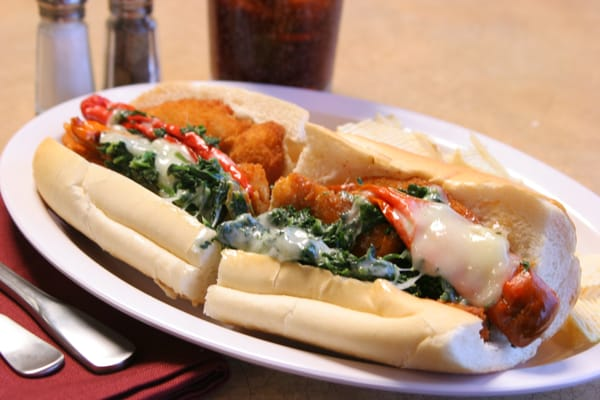pizza: (210, 0, 344, 91)
salad: (0, 309, 65, 378)
